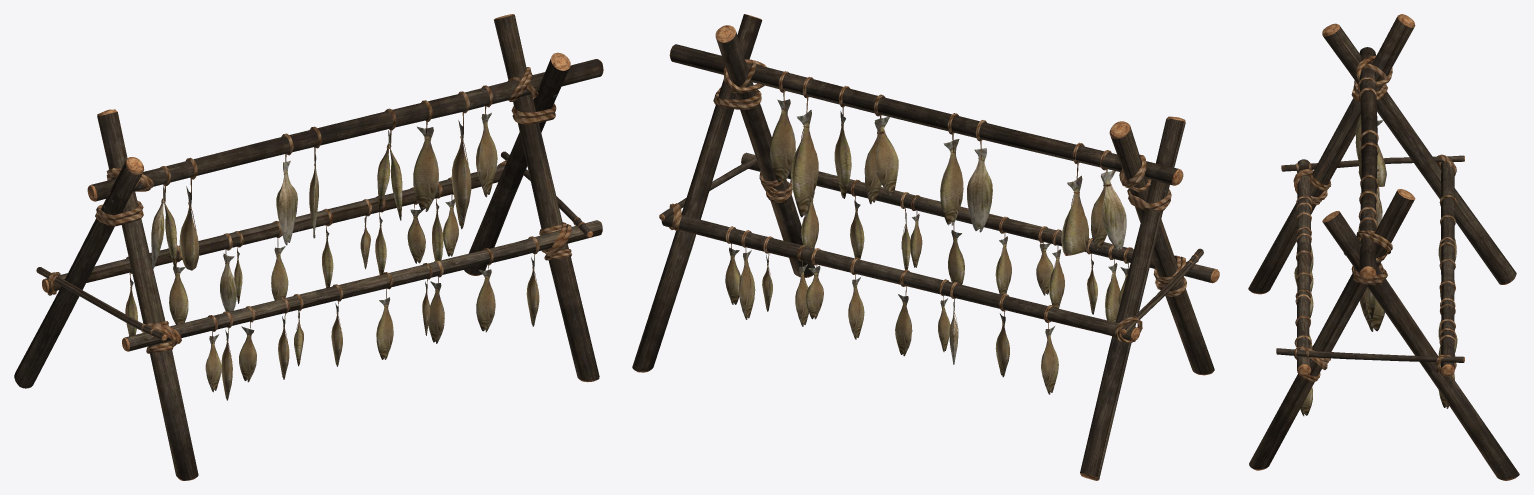
The model's file is val_fishrack.glb.
3 views of the same model, side by side, from view 1: azimuth 30°, elevation 25°; view 2: azimuth 150°, elevation 25°; view 3: azimuth 270°, elevation 25° (orthographic). The views are drawn at different scales.
Parts seen in each view (by area): view 1: KB3D_VAL_FishRack_A_Main; view 2: KB3D_VAL_FishRack_A_Main; view 3: KB3D_VAL_FishRack_A_Main.
Part boxes in pixels (x1,y1,x2,y2): KB3D_VAL_FishRack_A_Main: (14,14,603,480); KB3D_VAL_FishRack_A_Main: (632,14,1219,480); KB3D_VAL_FishRack_A_Main: (1248,14,1519,480).
Bounding box in the file's own units: 3.32 × 1.94 × 1.7.
5 materials, 5 textured.
